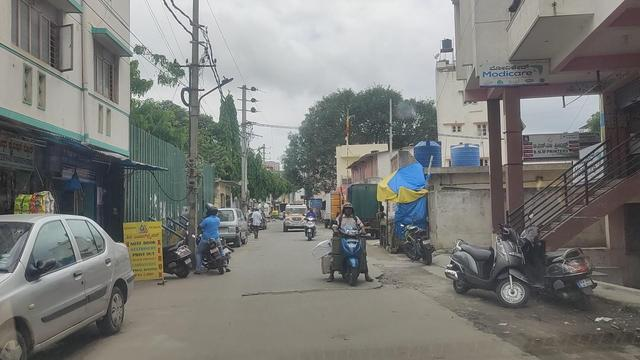LMV: (334, 202, 367, 286), (198, 206, 231, 274), (306, 207, 316, 241)
RoadDamages: (240, 275, 413, 304), (425, 299, 475, 332), (481, 331, 528, 360)
